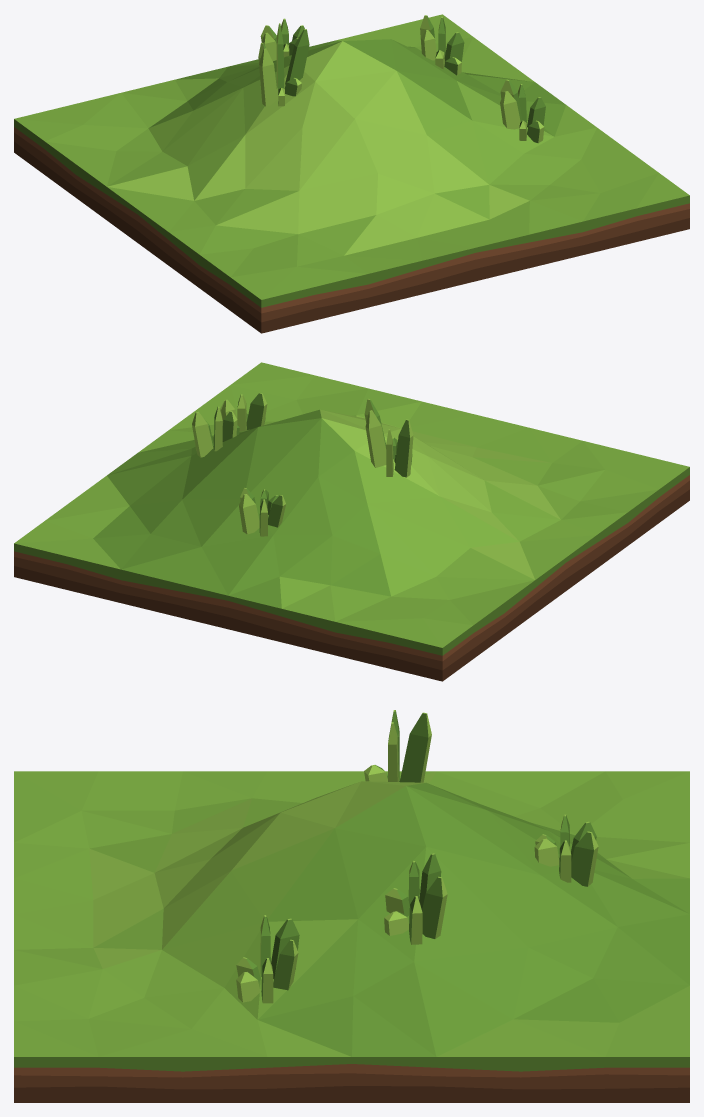
The model's file is FMS_Ground_Hill.fbx.
3 views of the same model, one above another, from view 1: azimuth 30°, elevation 25°; view 2: azimuth 150°, elevation 25°; view 3: azimuth 270°, elevation 25° (orthographic). The views are drawn at different scales.
Parts seen in each view (by area): view 1: FMS_Ground_Hill; view 2: FMS_Ground_Hill; view 3: FMS_Ground_Hill.
Part boxes in pixels (bbox=[...]): FMS_Ground_Hill: bbox=[14, 14, 689, 333]; FMS_Ground_Hill: bbox=[14, 362, 689, 681]; FMS_Ground_Hill: bbox=[14, 710, 689, 1102].
Size of the model in its own units: 4 by 1.41 by 4.
